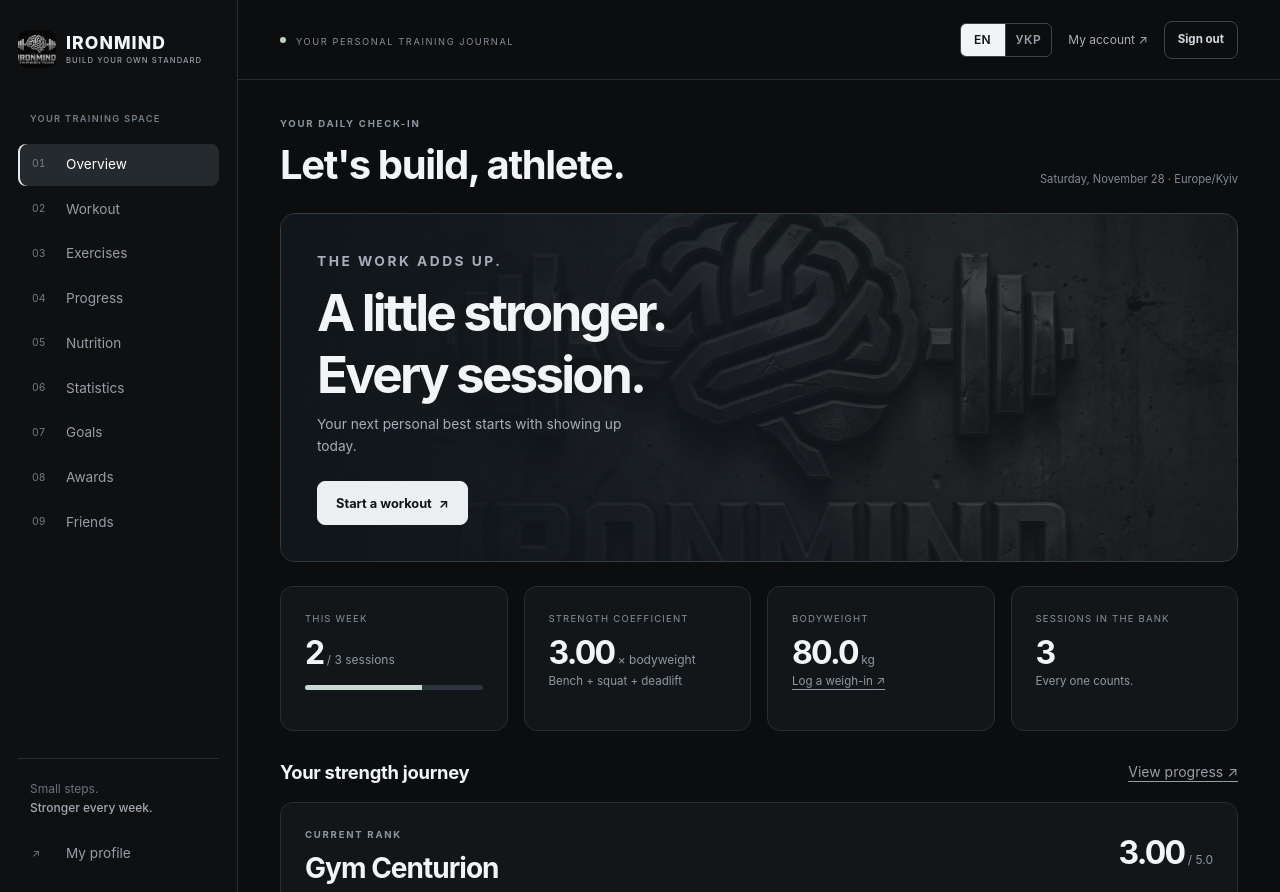
it: app › removes the workout of the athlete who signed out from this browser once the server holds it
expect the heading "Let's build, athlete." is shown: met, box [280, 141, 624, 189]
What coordinates should you click on to do the following:
click the button "Sign out"
I would click on:
 (1201, 40)
Its box is [1164, 20, 1238, 58].
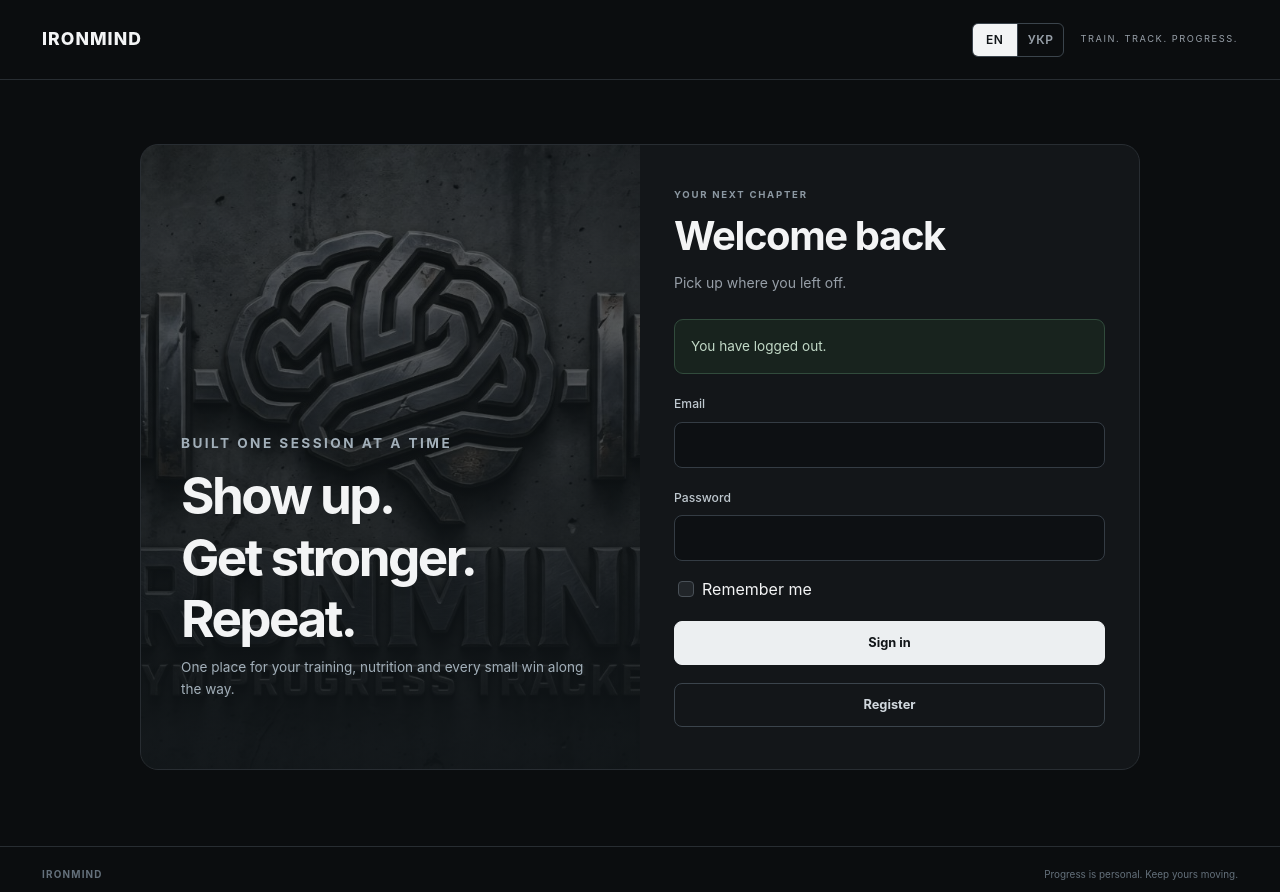
expect the text "You have logged out." is shown: met, box [674, 319, 1105, 374]
